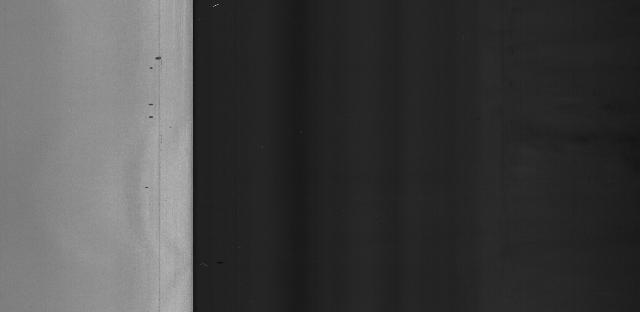oil_spot: (142, 48, 174, 77), (144, 99, 161, 125)
